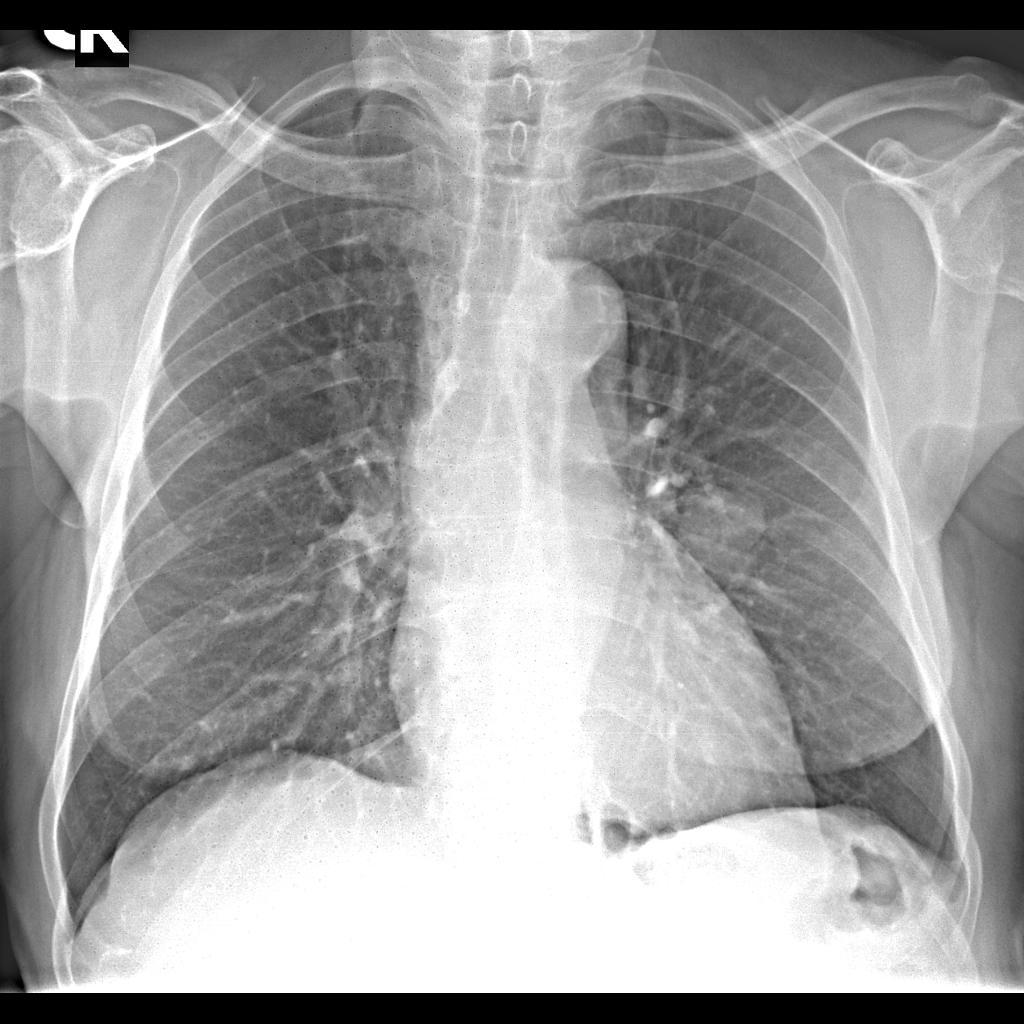Nodule: (673, 473, 776, 587)
